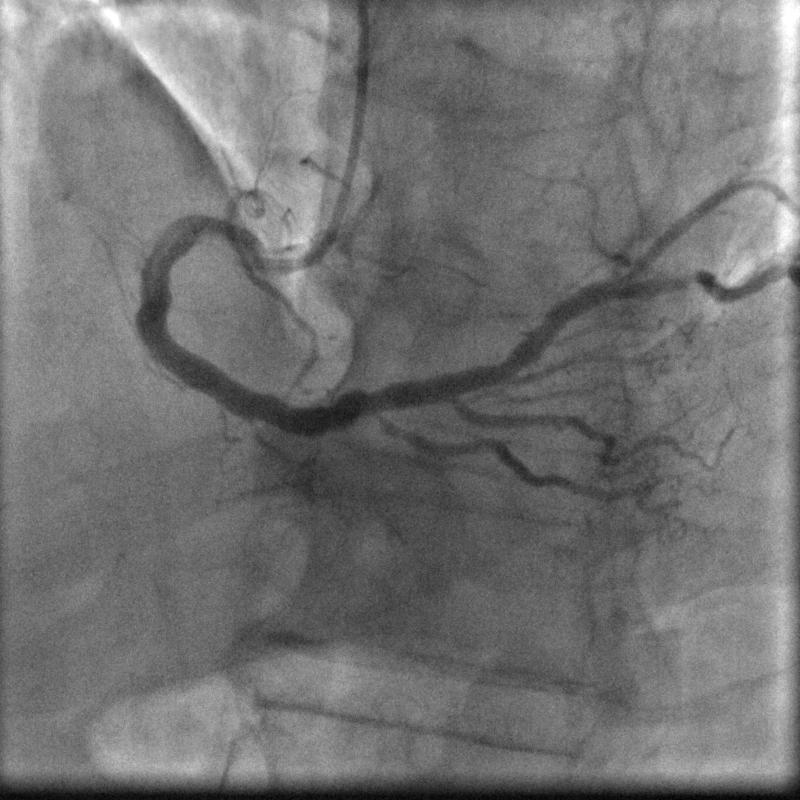Stenosis: (653, 266, 716, 290)
